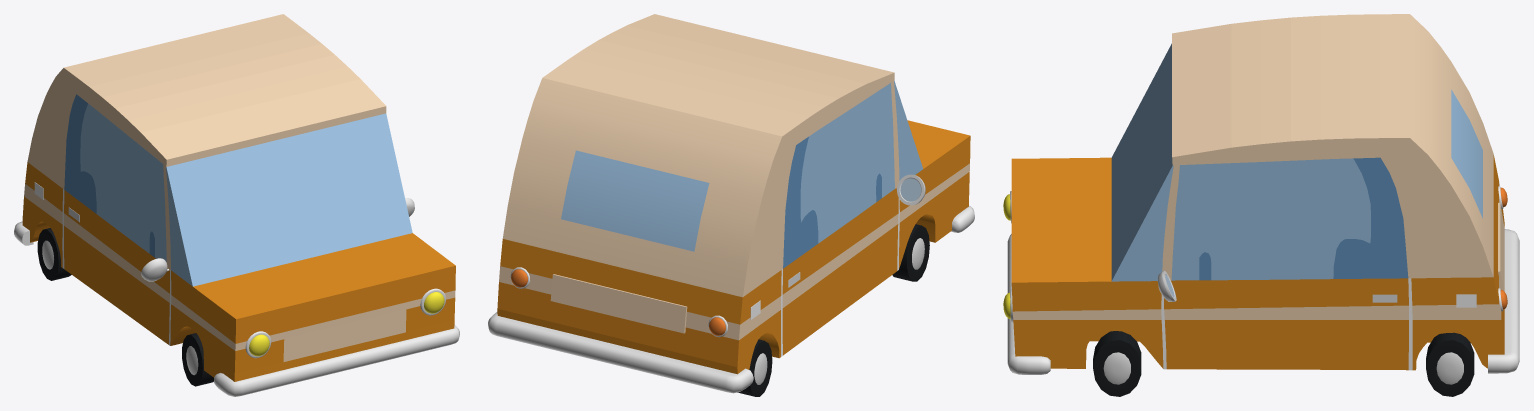
The model's file is orange_car.glb.
The picture shows the model from 3 angles, left to right: view 1: azimuth 30°, elevation 25°; view 2: azimuth 150°, elevation 25°; view 3: azimuth 270°, elevation 25°; orthographic projection. The views are drawn at different scales.
Visible parts, largest first — view 1: orange_hatchback; view 2: orange_hatchback; view 3: orange_hatchback.
Part boxes in pixels (x1,y1,x2,y2): orange_hatchback: (14,14,459,396); orange_hatchback: (488,14,974,396); orange_hatchback: (1003,14,1519,396).
Size of the model in its own units: 2.5 by 1.98 by 3.55.
